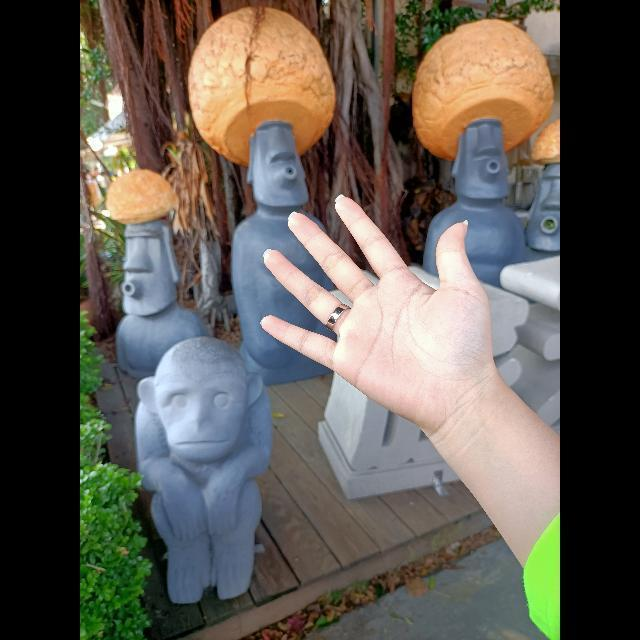bare_hand: (257, 191, 510, 449)
